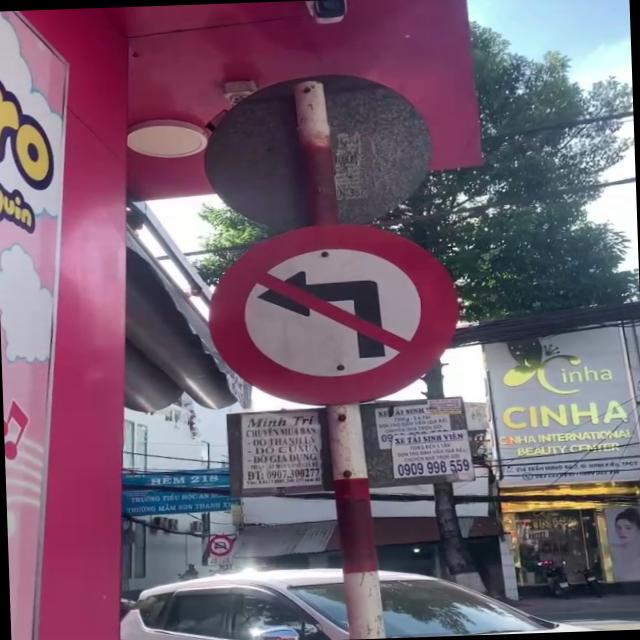Cam_Re_Trai: (203, 218, 462, 408)
